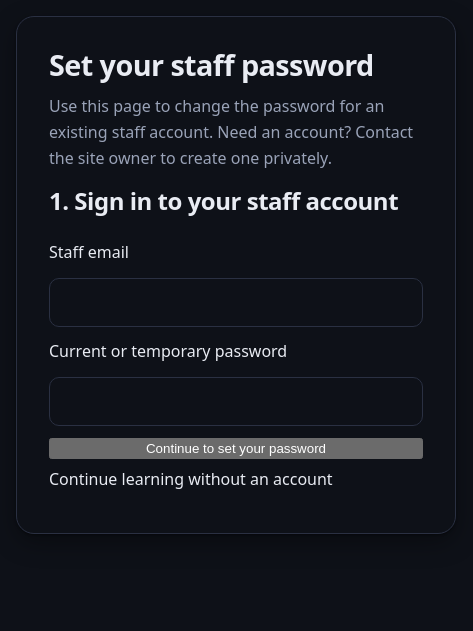
Test: private staff password setup › does not offer password setup when the account has no staff role
In the field labelled "Staff email": (236,302) [49,278,423,327], type "owner@example.com"
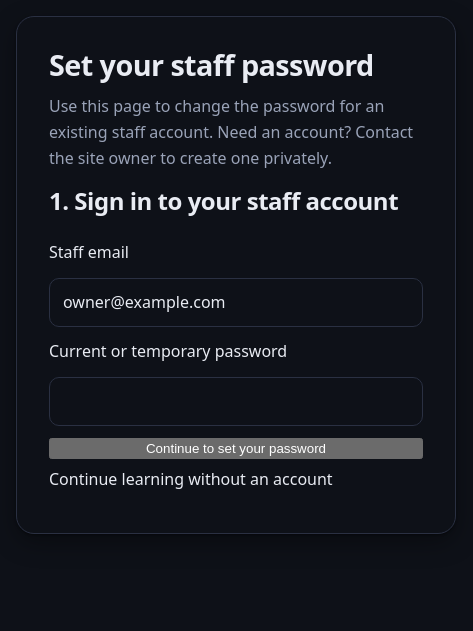
In the password field labelled "Current or temporary password": (236,402) [49,377,423,426], type "test-temporary-value"
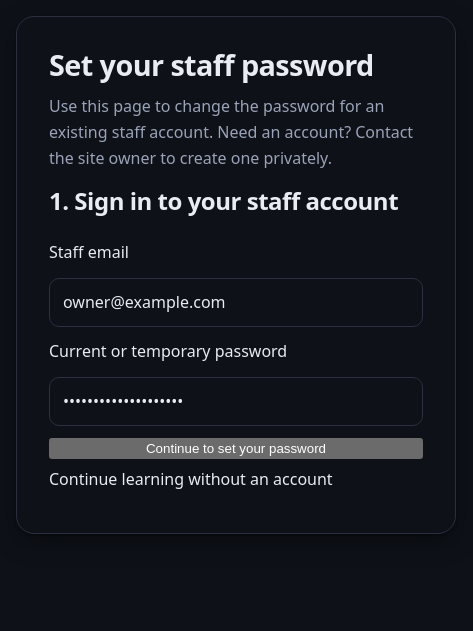
Click the button "Continue to set your password": (236,449) [49,438,423,459]
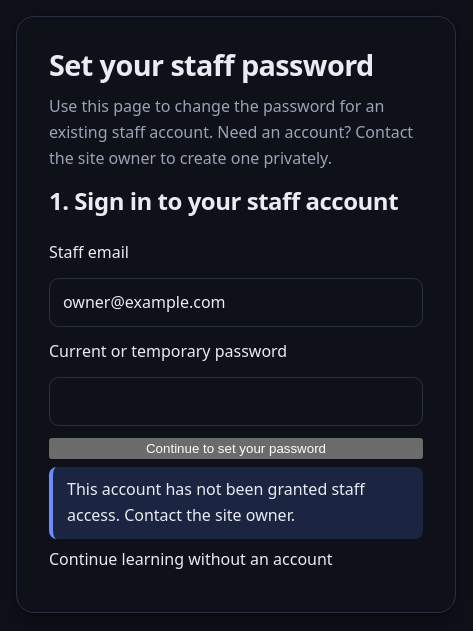
Check: the message shows "has not been granted staff access", box [67,478,365,526]
